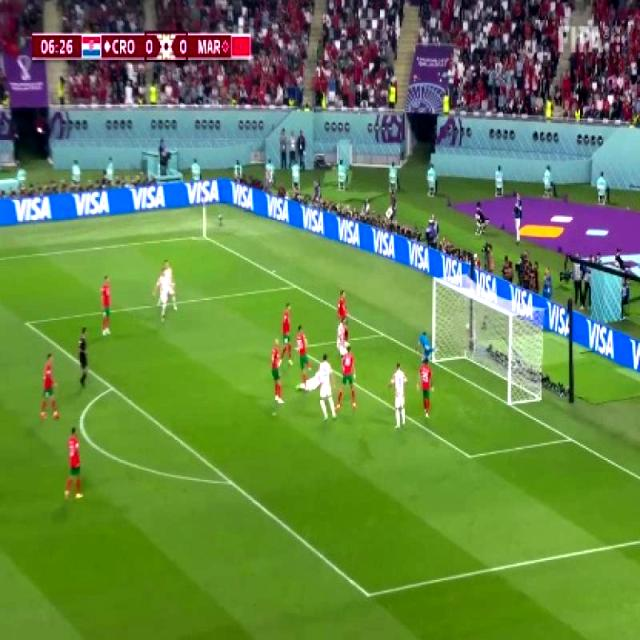bigarea_bottom_inner: (355, 576, 380, 610)
bigarea_top_inner: (16, 311, 34, 332)
bigarea_top_outter: (286, 276, 302, 294)
bottom_arc_area_intersection: (220, 468, 240, 496)
corner: (192, 228, 212, 242)
smallarea_bottom_inner: (458, 440, 480, 470)
smallarea_bottom_outter: (558, 426, 578, 451)
smallarea_top_outter: (374, 323, 391, 345)
top_arc_area_intersection: (102, 377, 118, 397)
